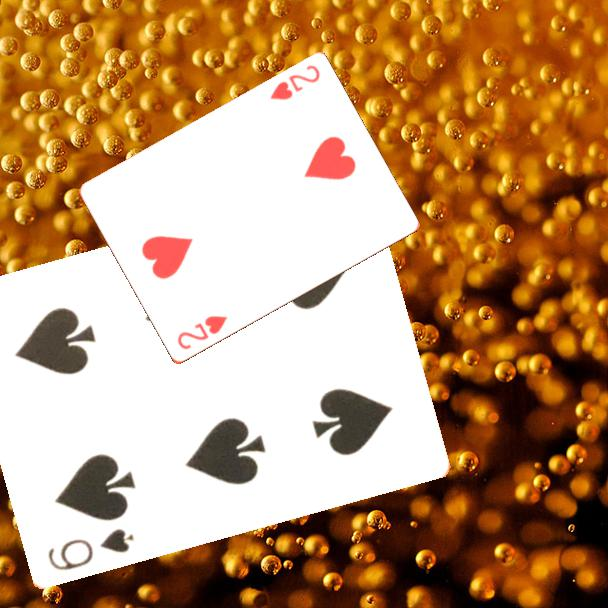h02: (266, 62, 323, 104), (173, 312, 230, 353)
s06: (44, 525, 137, 574)
